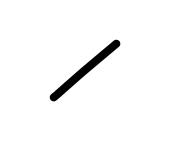t: (37, 29, 136, 114)
